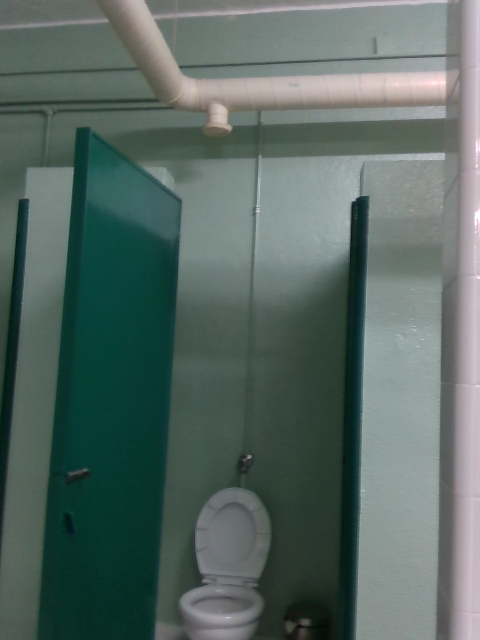open: (38, 126, 182, 639)
